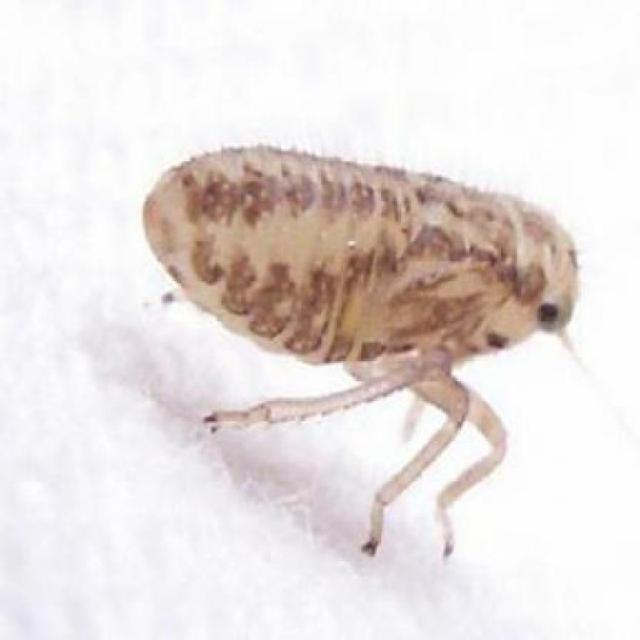brown-planthopper: (138, 134, 584, 443)
